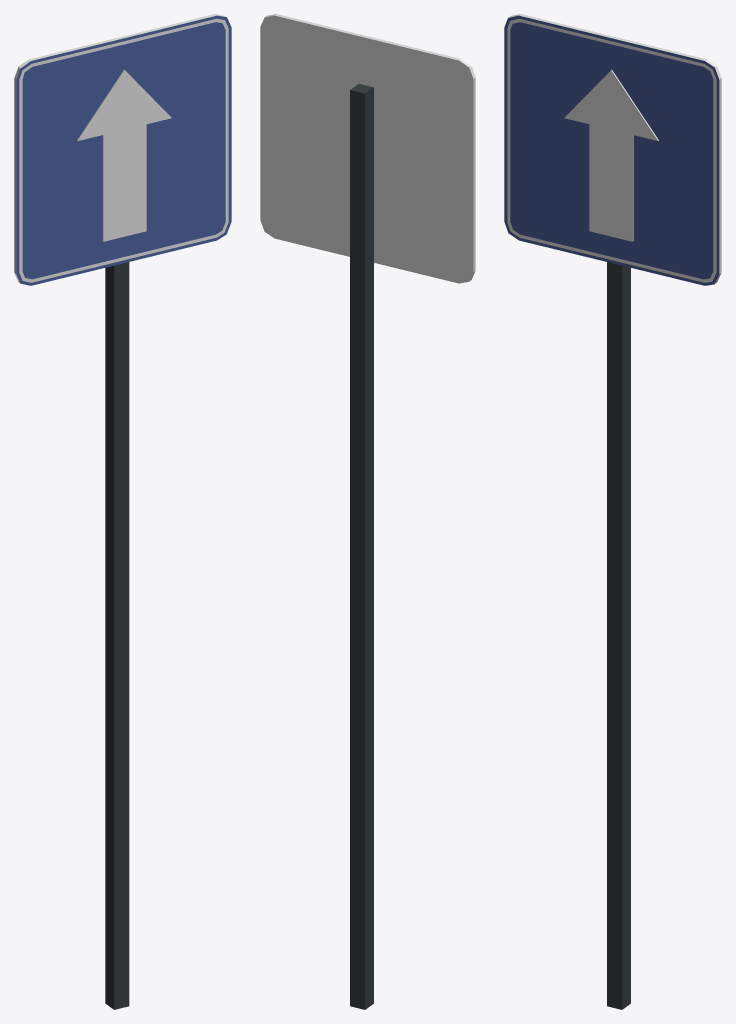
File: SM_FloorProps_RoadSign_12.fbx
3 views of the same model, side by side, from view 1: azimuth 30°, elevation 25°; view 2: azimuth 150°, elevation 25°; view 3: azimuth 330°, elevation 25° (orthographic).
Parts seen in each view (by area): view 1: SM_FloorProps_RoadSign_12; view 2: SM_FloorProps_RoadSign_12; view 3: SM_FloorProps_RoadSign_12.
Boxes of the visible parts, x1,y1,x2,y2 form: SM_FloorProps_RoadSign_12: (14, 14, 231, 1009); SM_FloorProps_RoadSign_12: (260, 14, 475, 1009); SM_FloorProps_RoadSign_12: (504, 14, 721, 1009).
Size of the model in its own units: 0.6082 by 2.63 by 0.0592.
